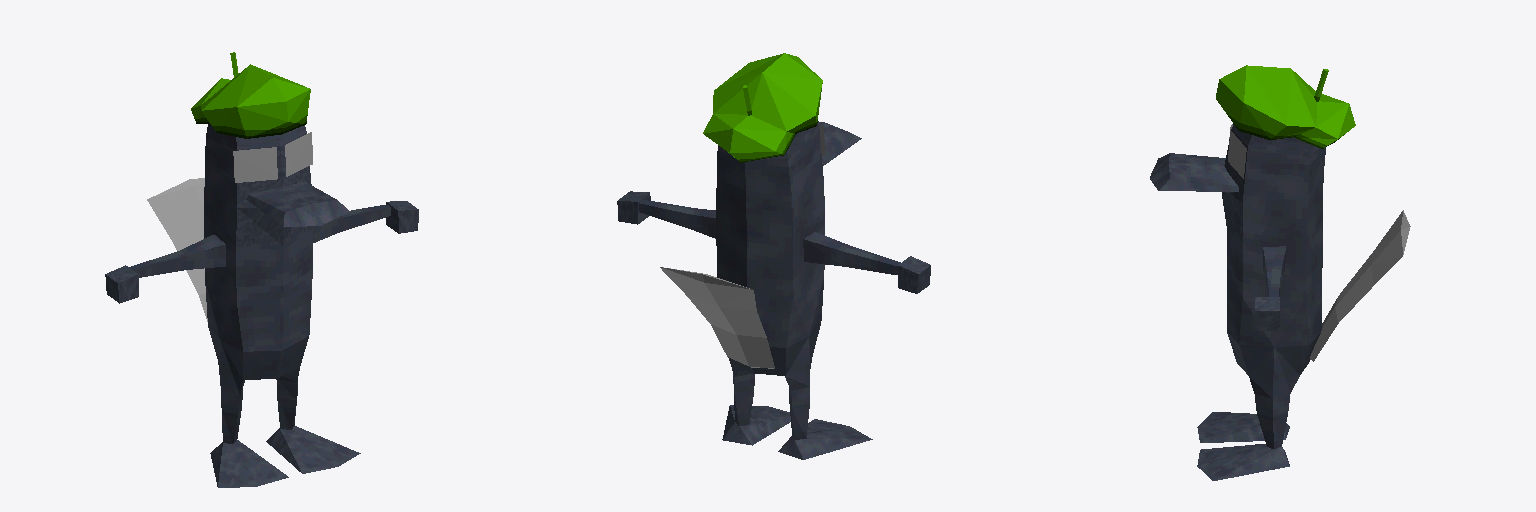
3 views of the same model, side by side, from view 1: azimuth 30°, elevation 25°; view 2: azimuth 150°, elevation 25°; view 3: azimuth 270°, elevation 25° (orthographic).
Parts seen in each view (by area): view 1: polygon3.007, polygon2.011, polygon4.006, polygon1.011; view 2: polygon3.007, polygon2.011, polygon4.006; view 3: polygon3.007, polygon2.011, polygon4.006, polygon1.011.
Boxes of the visible parts, <box> form: polygon3.007: <box>105,124,418,487</box>; polygon2.011: <box>191,52,310,138</box>; polygon4.006: <box>147,178,207,321</box>; polygon1.011: <box>233,132,312,182</box>; polygon3.007: <box>617,121,930,459</box>; polygon2.011: <box>703,53,822,162</box>; polygon4.006: <box>660,267,774,368</box>; polygon3.007: <box>1150,124,1325,480</box>; polygon2.011: <box>1216,65,1355,148</box>; polygon4.006: <box>1310,210,1410,361</box>; polygon1.011: <box>1228,124,1246,178</box>.
Bounding box in the file's own units: 0.4023 × 0.4865 × 0.3022.
4 materials, 2 textured.